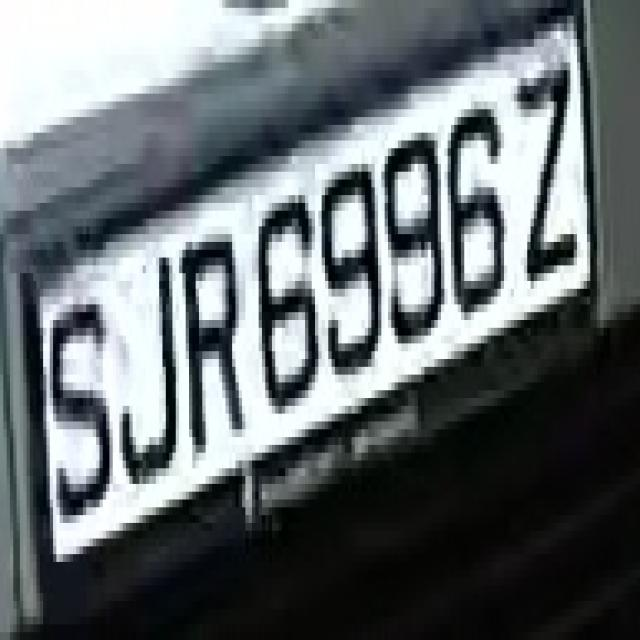6: (255, 164, 325, 414), (444, 70, 504, 312)
9: (378, 109, 448, 375), (305, 148, 381, 382)
J: (116, 203, 182, 507)
R: (172, 210, 252, 452)
S: (36, 242, 113, 554)
Z: (514, 23, 580, 296)
